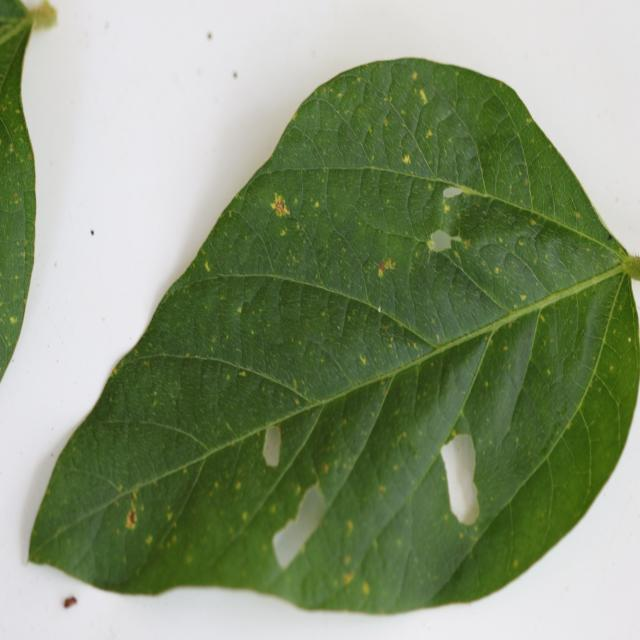Soybean: (24, 58, 640, 620)
downey_mildew: (58, 230, 608, 429), (138, 386, 329, 587), (451, 72, 624, 259), (315, 372, 450, 595), (495, 276, 620, 514), (425, 310, 547, 521), (399, 430, 511, 601), (253, 274, 402, 392), (449, 259, 627, 357), (205, 169, 346, 292), (291, 66, 424, 196), (32, 455, 147, 584), (157, 284, 276, 392), (91, 354, 219, 451), (445, 222, 556, 320), (239, 265, 311, 399), (1, 104, 33, 390), (525, 117, 607, 228), (582, 283, 634, 454), (512, 220, 614, 306), (479, 310, 547, 422), (541, 398, 595, 532), (472, 96, 531, 205), (501, 387, 552, 493), (285, 92, 355, 165), (361, 309, 443, 369), (128, 416, 228, 460), (316, 233, 372, 311), (351, 168, 406, 237), (431, 110, 481, 184), (1, 2, 33, 107), (176, 354, 217, 420), (498, 248, 547, 303), (362, 253, 411, 300)
